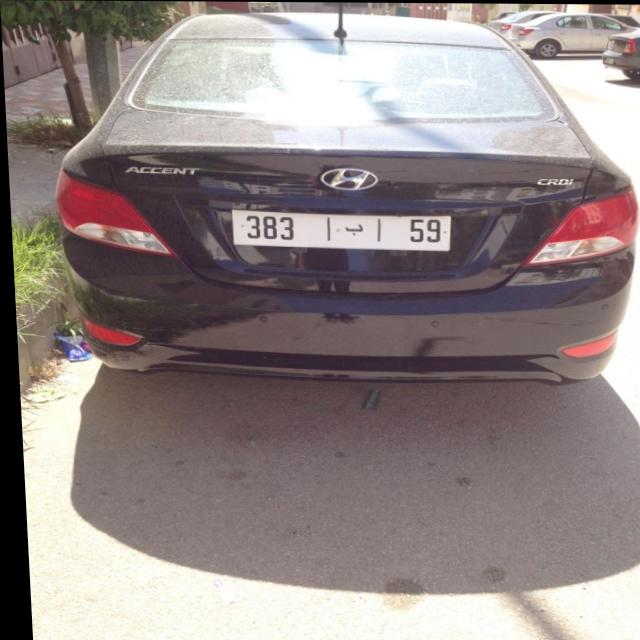License-Plate: (230, 209, 449, 250)
